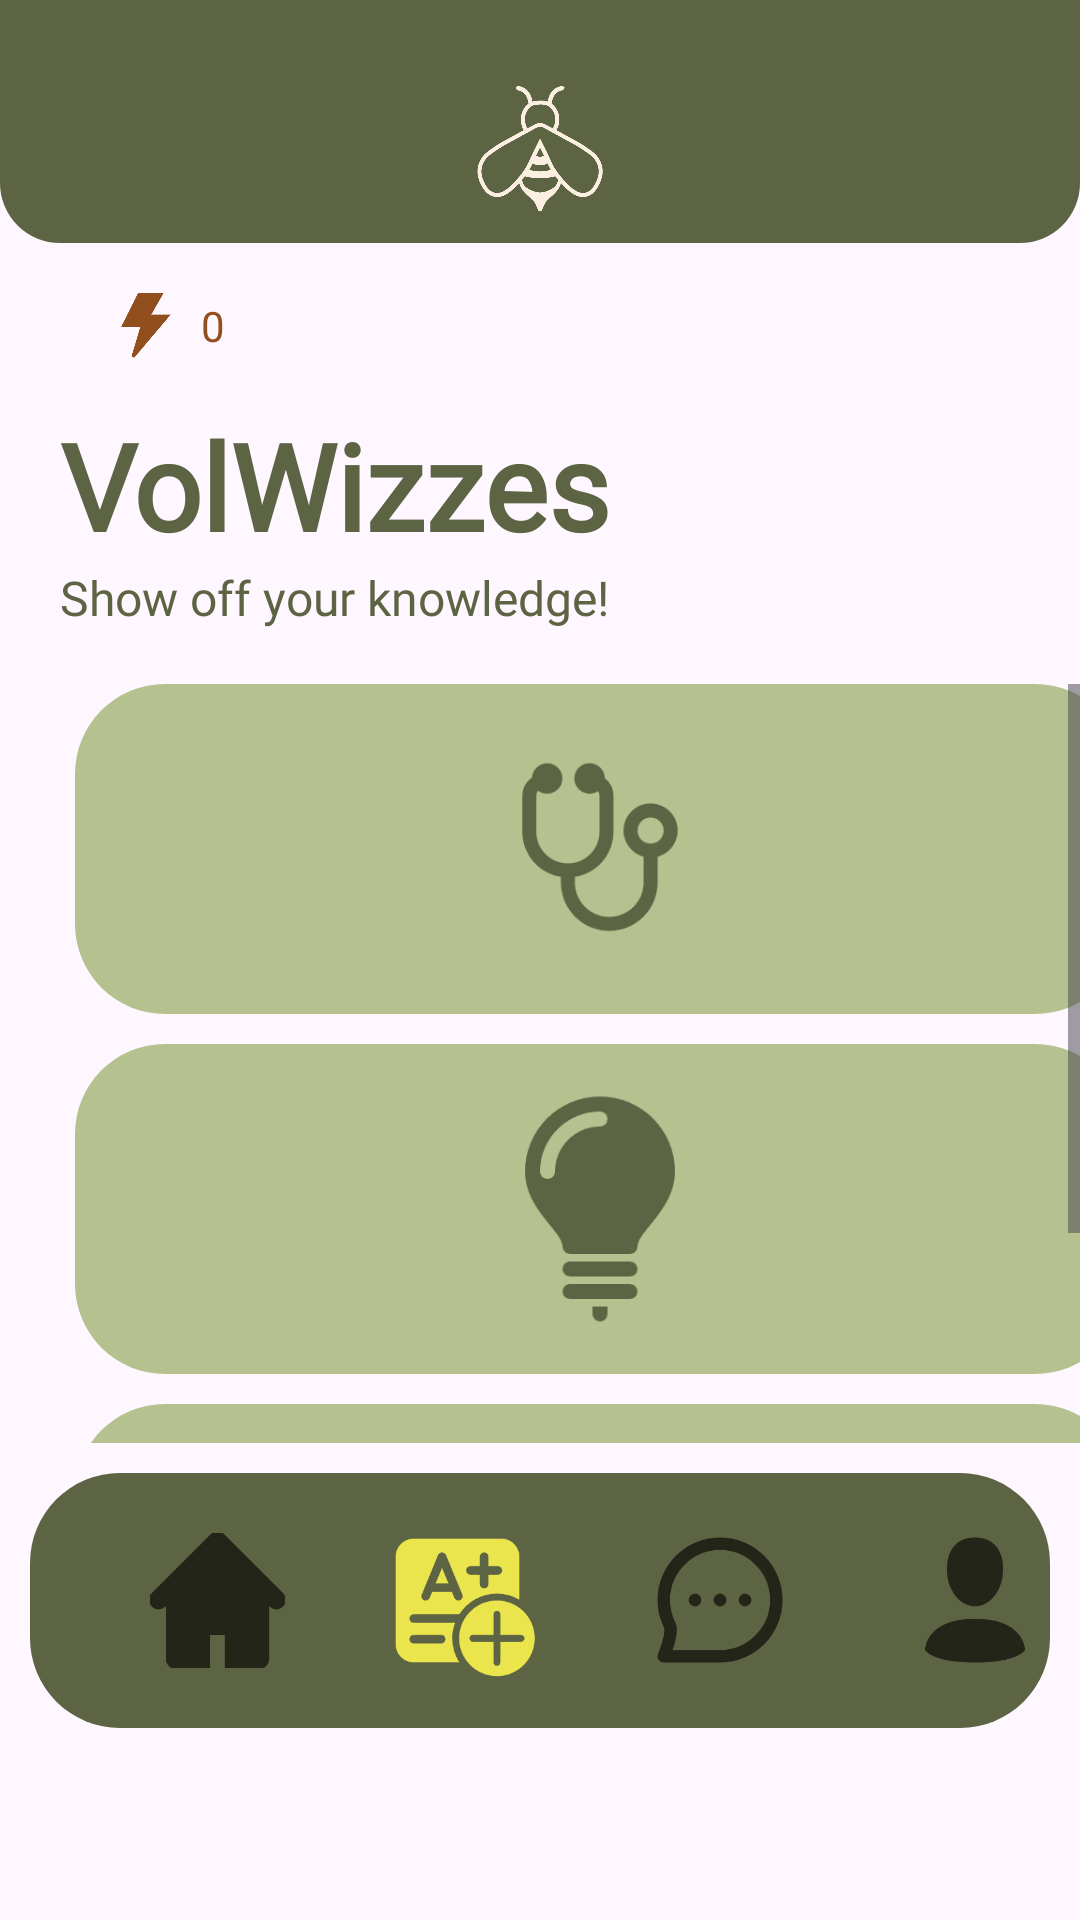

Icon click points for this 1080*1920 phone screenshot, format (x=x, y=y):
healthcare: (x=600, y=847)
home: (x=217, y=1600)
messages: (x=720, y=1600)
profile: (x=975, y=1600)
quiz: (x=465, y=1607)
thinking: (x=600, y=1209)
